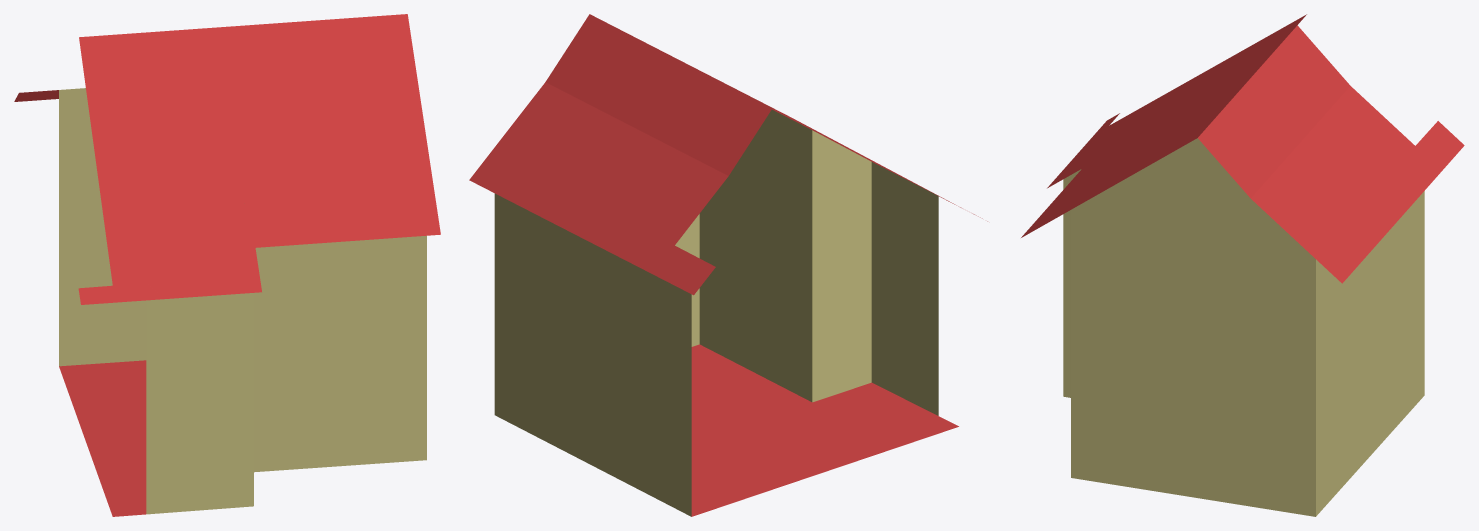
3 views of the same model, side by side, from view 1: azimuth 30°, elevation 25°; view 2: azimuth 150°, elevation 25°; view 3: azimuth 270°, elevation 25° (orthographic). The views are drawn at different scales.
Bounding box in the file's own units: 17.41 × 16.78 × 15.08.
